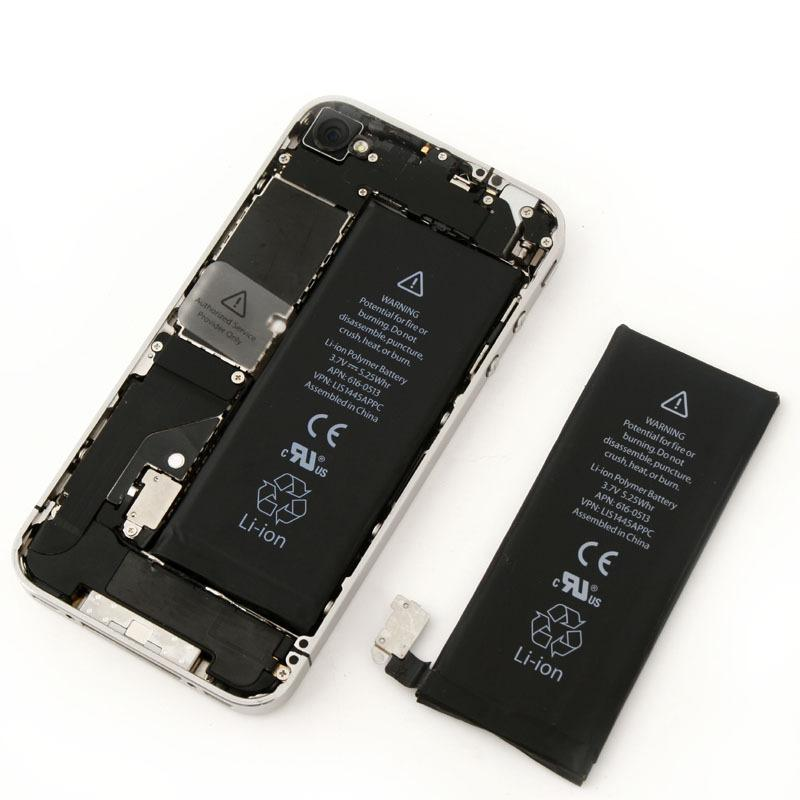phone: (13, 90, 584, 690)
